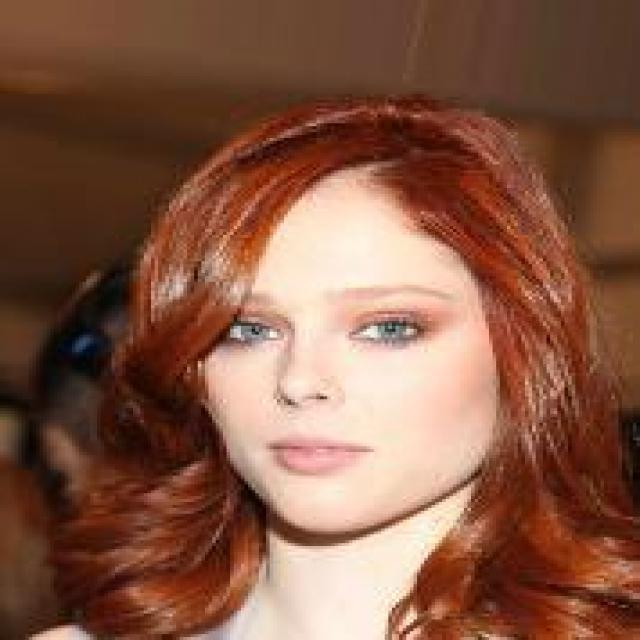nomask: (130, 114, 550, 516)
